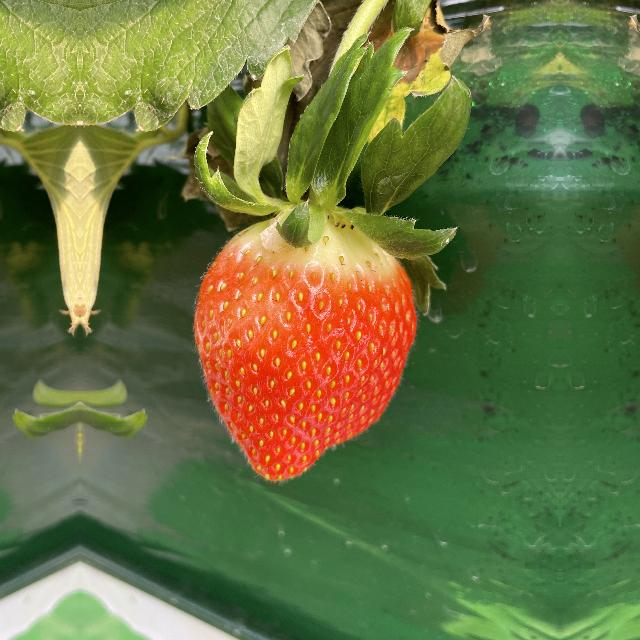Health_100: (188, 201, 420, 485)
